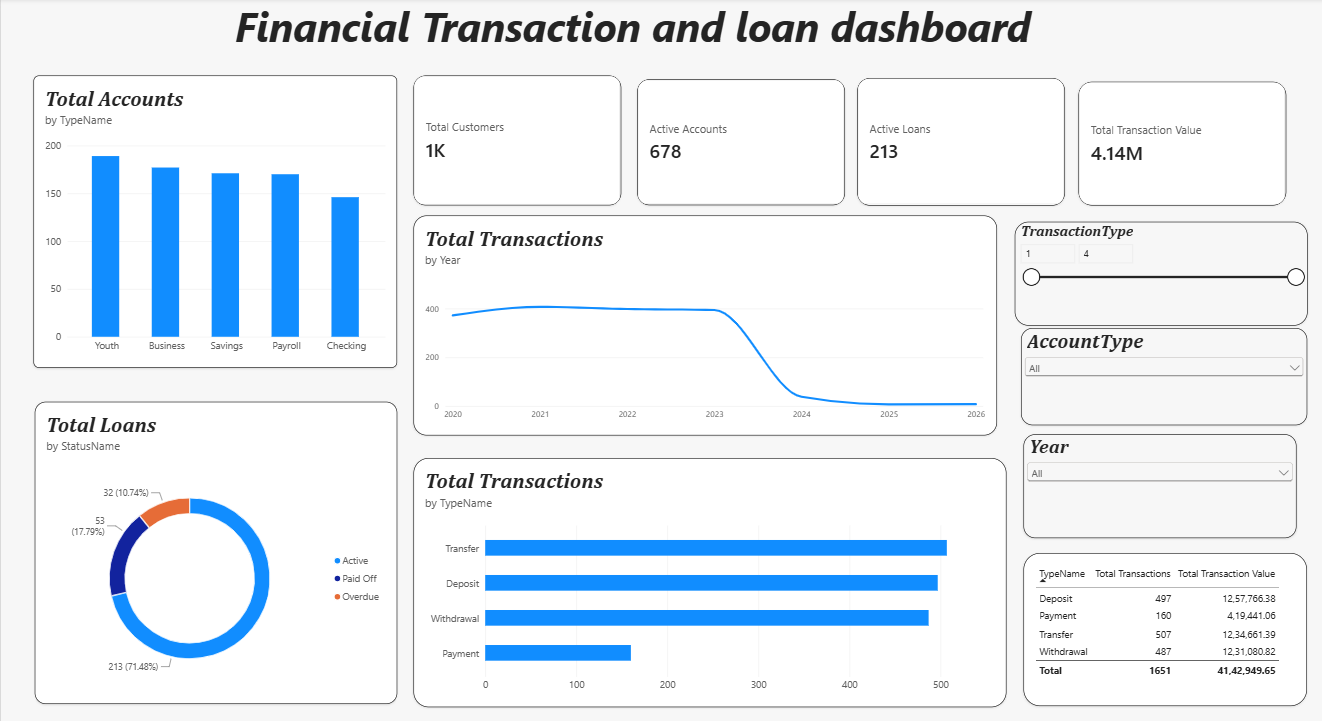

The dashboard page shown, as its layout file describes it:
{"tool":"powerbi","page":{"name":"FINANCIAL OVERVIEW","canvas":[1920,1080],"ordinal":0},"visuals":[{"type":"textbox","box":[334.8,0,1174.5,81.4],"z":0},{"type":"cardVisual","fields":{"Data":["Customers.Total Customers"]},"box":[597.7,111.8,300.4,188.2],"z":1000},{"type":"cardVisual","fields":{"Data":["Accounts.Active Accounts"]},"box":[921.6,117.6,300.4,182.8],"z":2000},{"type":"cardVisual","fields":{"Data":["Loans.Active Loans"]},"box":[1239.8,115.7,300.4,184.6],"z":3000},{"type":"cardVisual","fields":{"Data":["Transactions.Total Transaction Value"]},"box":[1559.8,121.5,300.4,179.2],"z":4000},{"type":"clusteredColumnChart","fields":{"Category":["Account types.TypeName"],"Y":["Accounts.Total Accounts"]},"box":[46.3,111.8,526.6,423.5],"z":5000},{"type":"lineChart","fields":{"Y":["Transactions.Total Transactions"],"Category":["Transactions.TransactionDate.Variation.Date Hierarchy.Year","Transactions.TransactionDate.Variation.Date Hierarchy.Quarter","Transactions.TransactionDate.Variation.Date Hierarchy.Month","Transactions.TransactionDate.Variation.Date Hierarchy.Day"]},"box":[597.7,314.3,844.5,318.1],"z":6000},{"type":"donutChart","fields":{"Category":["Loan statuses.StatusName"],"Y":["Loans.Total Loans"]},"box":[48.2,584.2,524.8,437.9],"z":7000},{"type":"clusteredBarChart","fields":{"Category":["Transaction types.TypeName"],"Y":["Transactions.Total Transactions"]},"box":[597.7,665.2,858,360.6],"z":8000},{"type":"tableEx","fields":{"Values":["Transaction types.TypeName","Transactions.Total Transactions","Transactions.Total Transaction Value"]},"box":[1480.8,804,410.7,221.7],"z":9000},{"type":"slicer","fields":{"Values":["Transactions.TransactionTypeID"]},"box":[1467.3,323.9,424.2,150.4],"z":10000},{"type":"slicer","fields":{"Values":["Account types.AccountTypeID"]},"box":[1476.9,478.2,414.5,140.8],"z":11000},{"type":"slicer","fields":{"Values":["Loans.StartDate.Variation.Date Hierarchy.Year"]},"box":[1480.8,632.4,395.3,150.4],"z":11001}]}

Visuals, with their boxes on the page's 1920x1080 design canvas (x1, y1, x2, y2). These are canvas units, not pixel positions in the 1322x721 screenshot, which may show the page scaled, cropped or inside an application window:
textbox: left=335, top=0, right=1509, bottom=81
cardVisual - Customers.Total Customers: left=598, top=112, right=898, bottom=300
cardVisual - Accounts.Active Accounts: left=922, top=118, right=1222, bottom=300
cardVisual - Loans.Active Loans: left=1240, top=116, right=1540, bottom=300
cardVisual - Transactions.Total Transaction Value: left=1560, top=122, right=1860, bottom=301
clusteredColumnChart - Account types.TypeName x Accounts.Total Accounts: left=46, top=112, right=573, bottom=535
lineChart - Transactions.Total Transactions x Transactions.TransactionDate.Variation.Date Hierarchy.Year: left=598, top=314, right=1442, bottom=632
donutChart - Loan statuses.StatusName x Loans.Total Loans: left=48, top=584, right=573, bottom=1022
clusteredBarChart - Transaction types.TypeName x Transactions.Total Transactions: left=598, top=665, right=1456, bottom=1026
tableEx - Transaction types.TypeName x Transactions.Total Transactions: left=1481, top=804, right=1892, bottom=1026
slicer - Transactions.TransactionTypeID: left=1467, top=324, right=1892, bottom=474
slicer - Account types.AccountTypeID: left=1477, top=478, right=1891, bottom=619
slicer - Loans.StartDate.Variation.Date Hierarchy.Year: left=1481, top=632, right=1876, bottom=783
